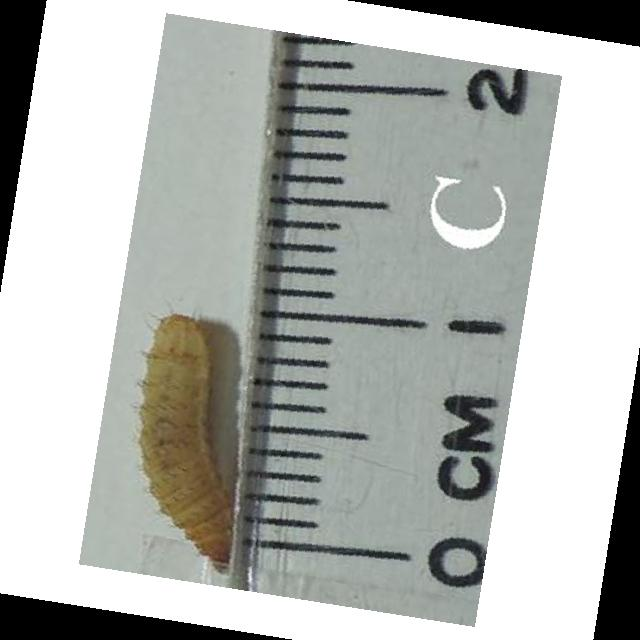Maggot: (140, 316, 241, 566)
